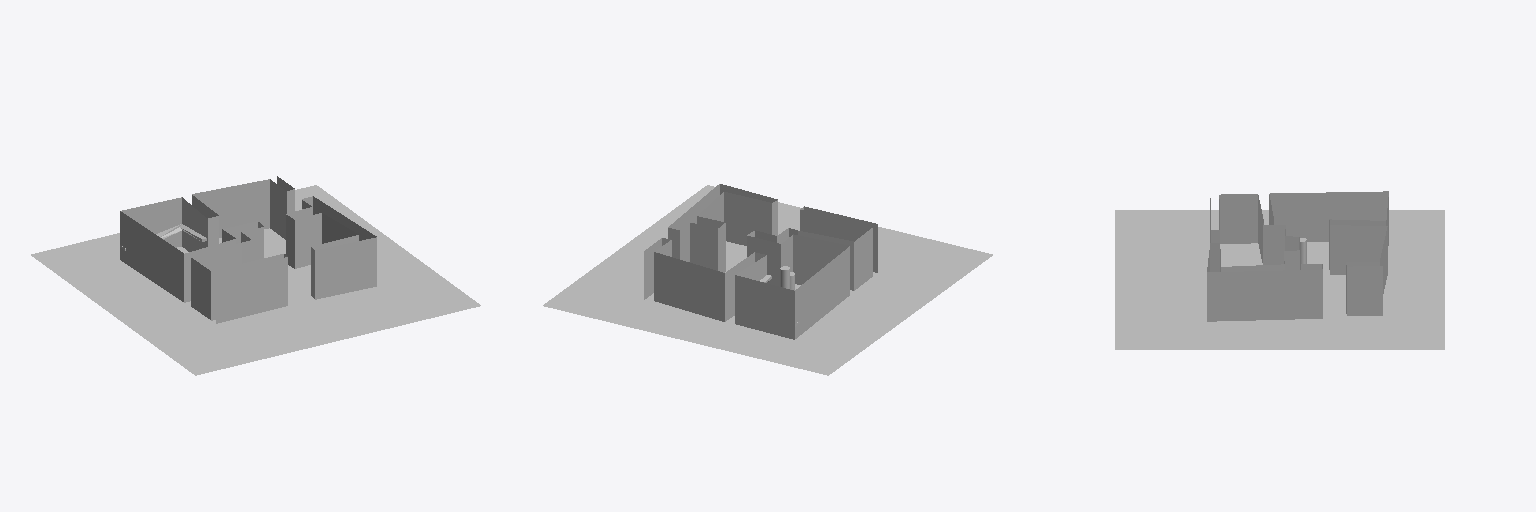
File: GiantsHome1_Static.obj
3 views of the same model, side by side, from view 1: azimuth 30°, elevation 25°; view 2: azimuth 150°, elevation 25°; view 3: azimuth 270°, elevation 25° (orthographic).
Visible parts, largest first — view 1: Plane, Cube.012_Cube.016; view 2: Cube.012_Cube.016, Plane; view 3: Plane, Cube.012_Cube.016.
Boxes of the visible parts, <box> form: Plane: <box>31,185,480,375</box>; Cube.012_Cube.016: <box>120,176,376,323</box>; Cube.012_Cube.016: <box>644,184,877,339</box>; Plane: <box>543,185,992,375</box>; Plane: <box>1115,210,1444,349</box>; Cube.012_Cube.016: <box>1207,191,1388,321</box>.
Size of the model in its own units: 92.28 by 15.36 by 92.28.